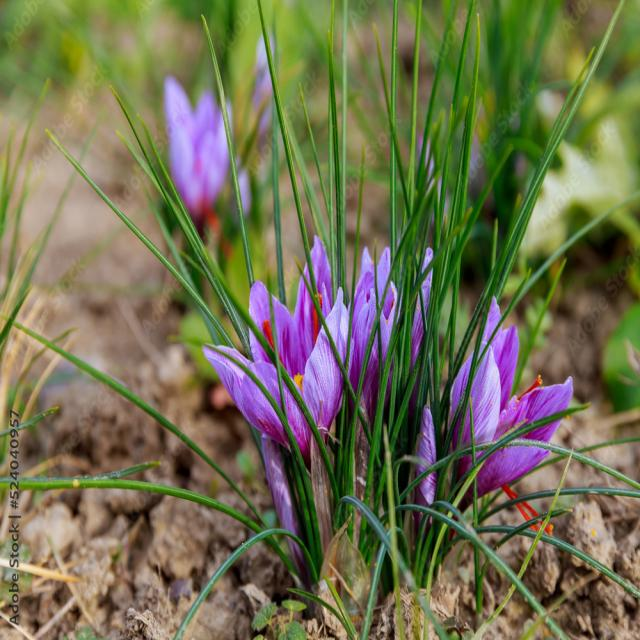saffron closed: (415, 407, 436, 476), (414, 472, 436, 504), (414, 512, 421, 528)
saffron open: (205, 238, 349, 465), (461, 326, 572, 444), (349, 247, 398, 422), (476, 446, 548, 497), (452, 354, 472, 418), (481, 298, 500, 352), (524, 420, 560, 442)
